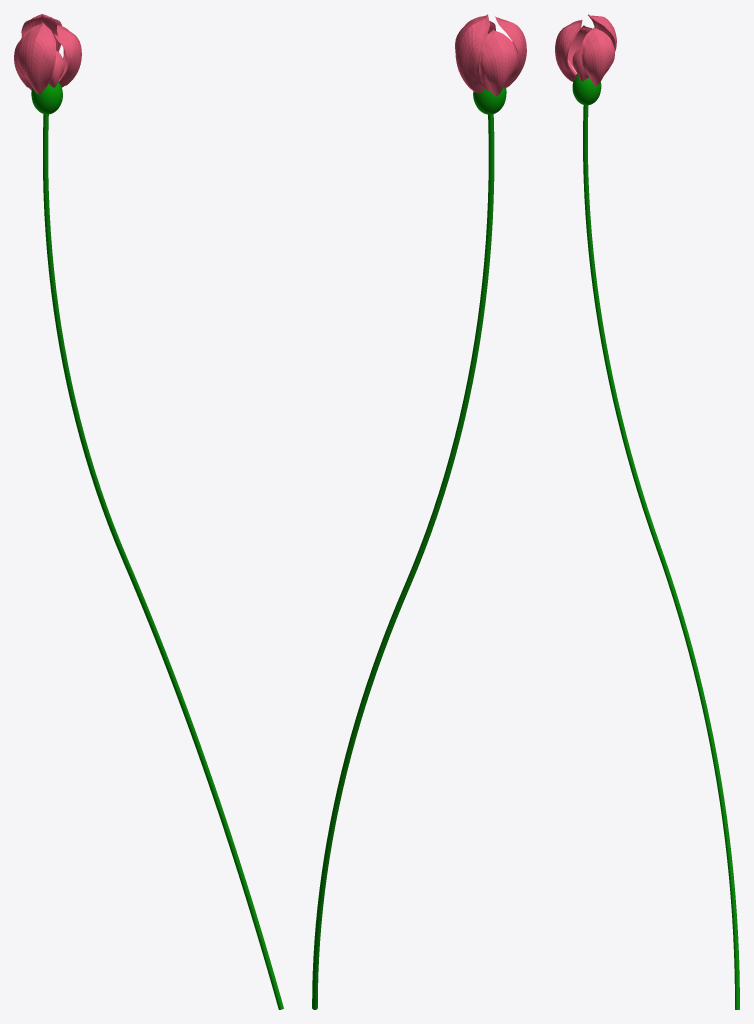
The model's file is Lotus011.fbx.
The picture shows the model from 3 angles, left to right: view 1: azimuth 30°, elevation 25°; view 2: azimuth 150°, elevation 25°; view 3: azimuth 330°, elevation 25°; orthographic projection. The views are drawn at different scales.
Parts seen in each view (by area): view 1: pCylinder5, nurbsToPoly11, nurbsToPoly24, pSphere4; view 2: pCylinder5, nurbsToPoly10, nurbsToPoly12, nurbsToPoly11, pSphere4; view 3: pCylinder5, nurbsToPoly24, nurbsToPoly11, pSphere4.
Part boxes in pixels (x1,y1,x2,y2): pCylinder5: (43,114,283,1009); nurbsToPoly11: (17,22,55,94); nurbsToPoly24: (57,24,81,87); pSphere4: (31,81,62,114); pCylinder5: (312,114,494,1009); nurbsToPoly10: (455,14,489,93); nurbsToPoly12: (479,29,517,96); nurbsToPoly11: (495,16,526,87); pSphere4: (473,87,506,114); pCylinder5: (583,105,739,1009); nurbsToPoly24: (581,27,614,86); nurbsToPoly11: (555,19,582,81); pSphere4: (572,74,601,105).
Bounding box in the file's own units: 49.29 × 207 × 20.04.
